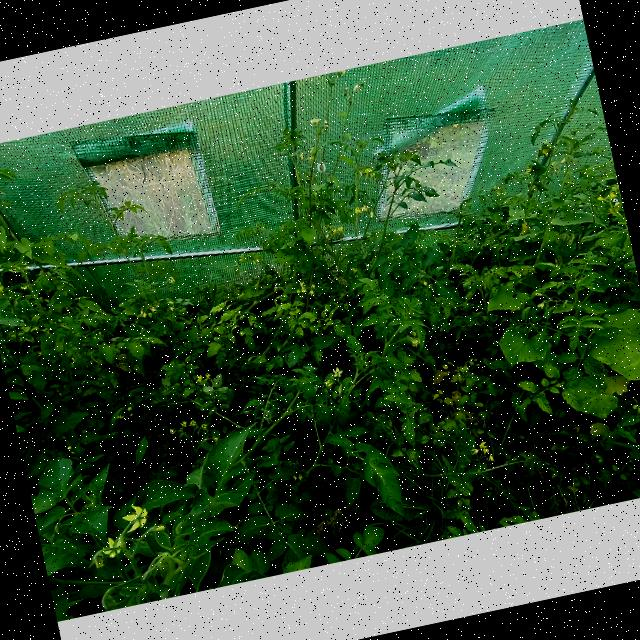Flowers: (119, 502, 151, 532), (100, 535, 124, 558), (536, 139, 554, 158), (91, 553, 105, 568), (363, 167, 376, 180), (329, 224, 344, 234), (478, 441, 489, 454), (308, 118, 322, 128), (493, 188, 508, 196), (332, 366, 342, 377), (324, 222, 334, 232), (167, 300, 176, 311), (361, 202, 370, 212), (534, 290, 545, 298), (0, 277, 5, 294), (204, 372, 213, 381), (487, 453, 496, 462), (412, 338, 421, 347), (523, 166, 532, 175), (322, 379, 332, 387), (272, 284, 282, 292), (116, 412, 126, 420), (491, 182, 501, 190), (608, 192, 619, 199), (471, 448, 480, 456), (537, 300, 546, 308), (548, 159, 557, 167), (296, 287, 307, 293), (168, 427, 176, 435), (596, 194, 604, 202), (354, 206, 362, 213), (306, 155, 314, 162), (351, 267, 358, 274), (140, 308, 146, 316), (150, 304, 156, 312), (298, 281, 306, 287), (559, 157, 567, 163), (189, 420, 196, 426), (196, 374, 202, 381), (168, 276, 175, 282), (421, 280, 428, 286), (298, 153, 304, 160), (324, 232, 329, 240), (308, 290, 314, 296), (126, 406, 132, 412), (180, 421, 187, 426), (200, 424, 207, 429), (311, 281, 316, 288), (370, 210, 374, 218)
